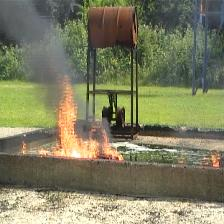fire: (38, 75, 99, 158), (101, 129, 124, 160)
